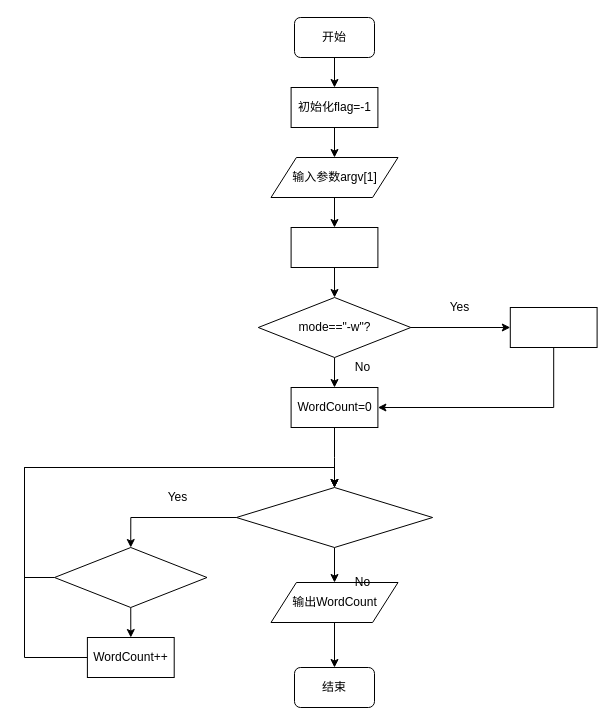
Image size: 615x725. Some labels were removed from this diagram. Here are the shapes that lost their labels. From the top down, the centre of each, then its label:
[334,247]: mode=argv[1]
[553,327]: flag=0
[334,517]: ch=fgetc(fp)!=EOF
[130,577]: flag==0 && ch==' '||','||';'
